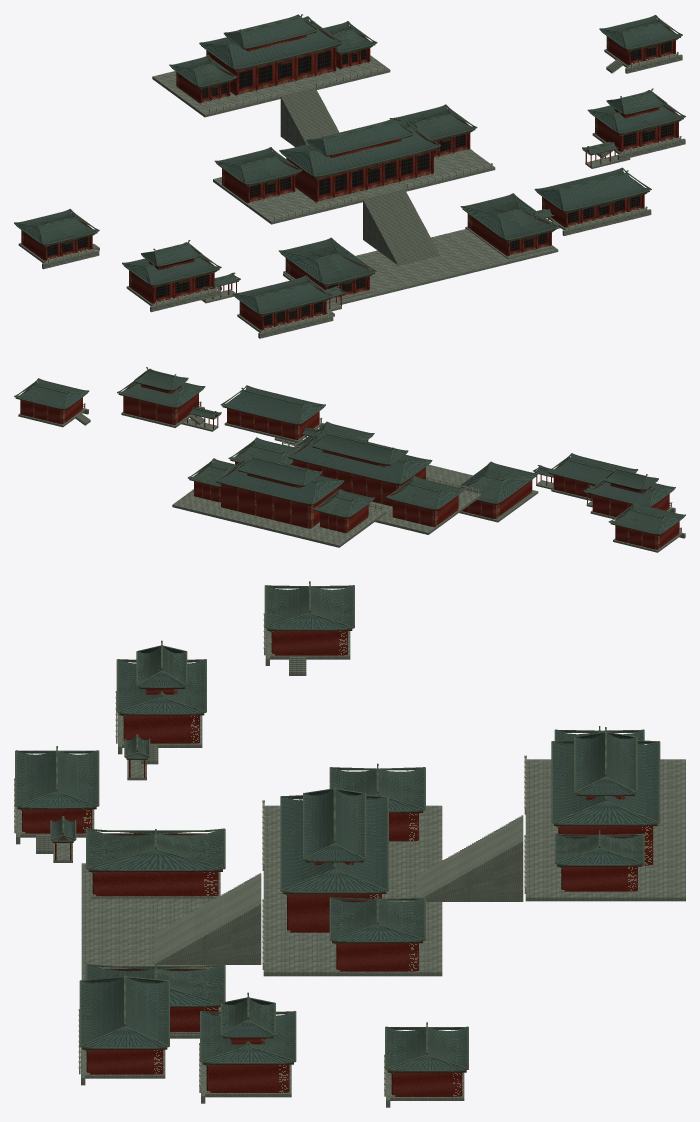
The model's file is temple_halls.glb.
3 views of the same model, one above another, from view 1: azimuth 30°, elevation 25°; view 2: azimuth 150°, elevation 25°; view 3: azimuth 270°, elevation 25° (orthographic). The views are drawn at different scales.
Visible parts, largest first — view 1: temple_halls0, temple_halls1, temple_halls3, temple_halls2, temple_halls4, temple_halls5; view 2: temple_halls1, temple_halls3, temple_halls0, temple_halls2, temple_halls4, temple_halls5; view 3: temple_halls0, temple_halls1, temple_halls3, temple_halls2, temple_halls4.
Boxes of the visible parts, x1,y1,x2,y2 form: temple_halls0: [213, 119, 558, 305]; temple_halls1: [152, 16, 492, 221]; temple_halls3: [14, 117, 679, 312]; temple_halls2: [126, 14, 385, 338]; temple_halls4: [201, 15, 685, 311]; temple_halls5: [202, 141, 630, 289]; temple_halls1: [172, 431, 479, 547]; temple_halls3: [121, 385, 685, 552]; temple_halls0: [286, 421, 538, 534]; temple_halls2: [187, 453, 671, 533]; temple_halls4: [14, 367, 592, 507]; temple_halls5: [181, 407, 594, 494]; temple_halls0: [81, 789, 442, 1038]; temple_halls1: [262, 741, 685, 975]; temple_halls3: [78, 581, 354, 1097]; temple_halls2: [14, 715, 659, 893]; temple_halls4: [50, 736, 468, 1107].
Bounding box in the file's own units: 194 × 36.14 × 109.
Materials: 1 (1 with a texture image).
